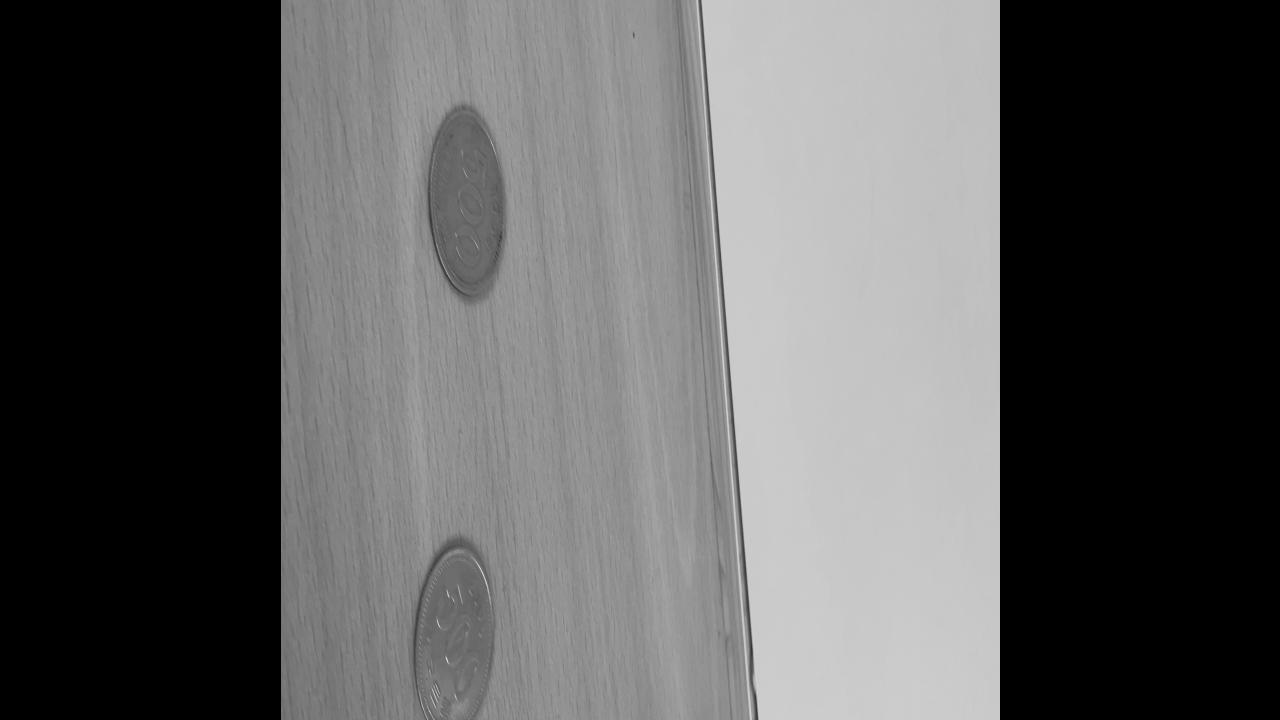coin: (428, 108, 506, 300), (413, 540, 496, 720)
